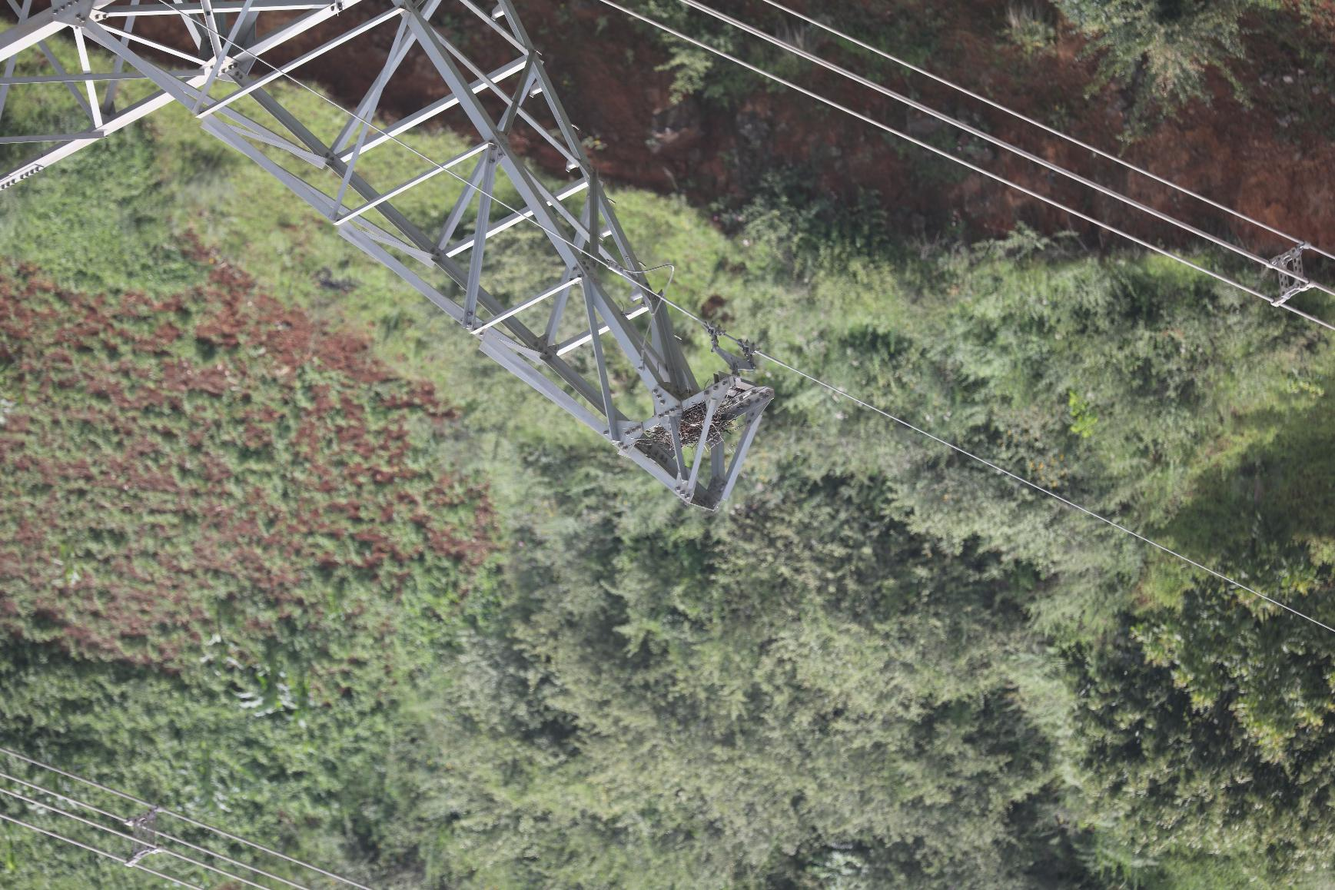nest: (647, 399, 733, 452)
